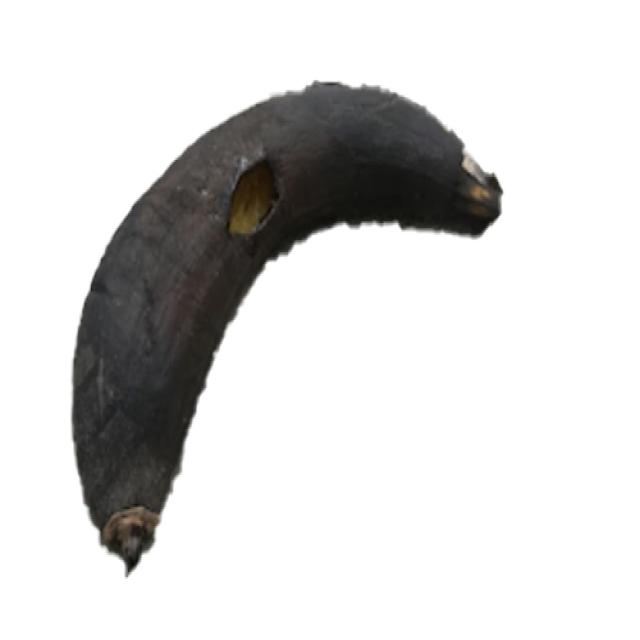rotten-banana: (69, 77, 503, 575)
